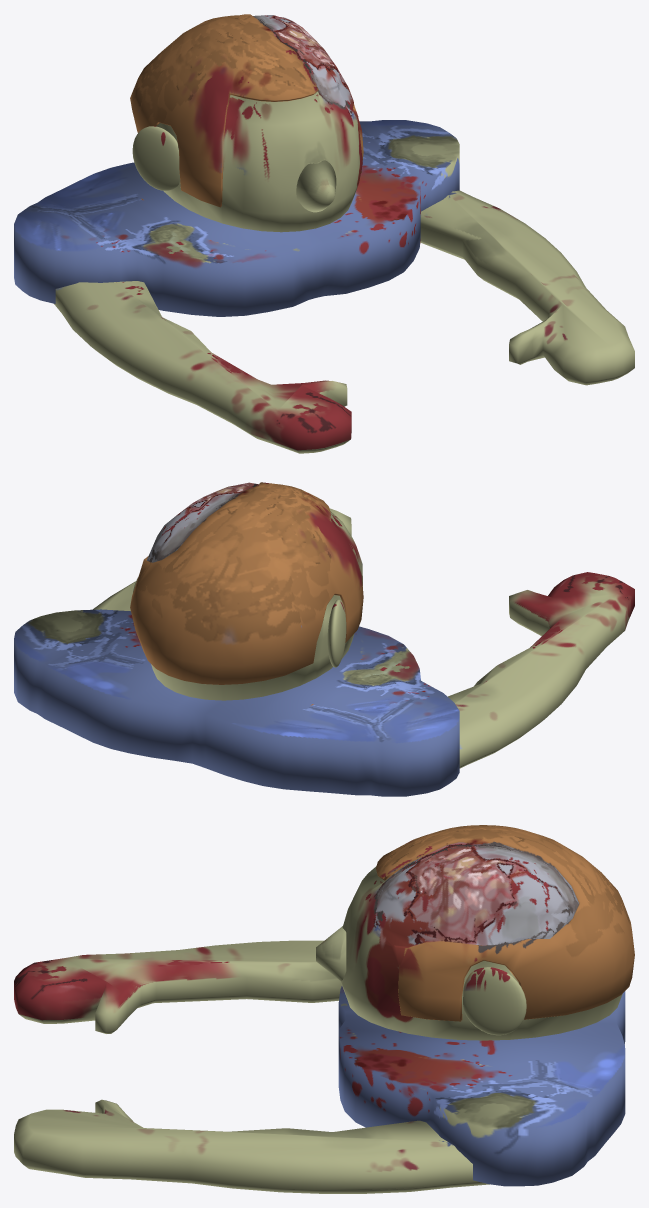
Rendered from Zombie2.fbx.
The picture shows the model from 3 angles, top to bottom: view 1: azimuth 30°, elevation 25°; view 2: azimuth 150°, elevation 25°; view 3: azimuth 270°, elevation 25°; orthographic projection. The views are drawn at different scales.
Visible parts, largest first — view 1: Zombie; view 2: Zombie; view 3: Zombie.
Part boxes in pixels (bbox=[...]): Zombie: bbox=[14, 14, 634, 453]; Zombie: bbox=[14, 482, 634, 796]; Zombie: bbox=[14, 825, 634, 1193].
Bounding box in the file's own units: 50.85 × 25.91 × 58.37.
Materials: 1 (1 with a texture image).
